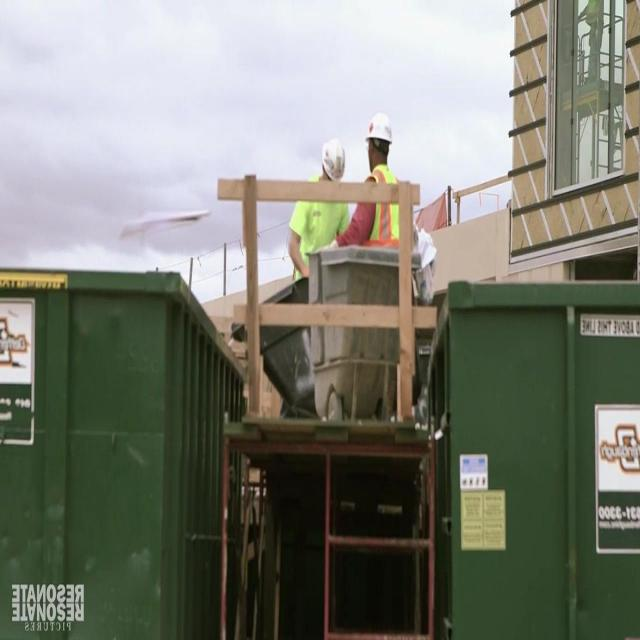Reflective-Jacket: (281, 172, 353, 281), (358, 161, 419, 255)
Safety-Helmet: (313, 124, 351, 188), (361, 102, 399, 155)
